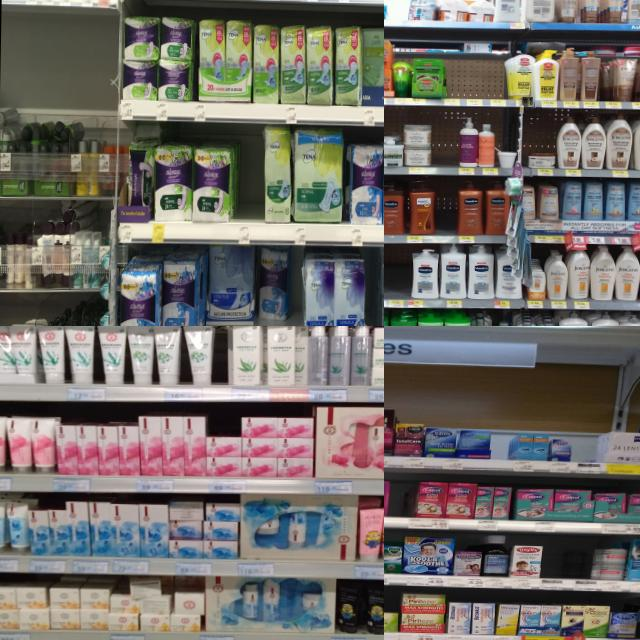100- O.O.S: (238, 135, 263, 242), (384, 243, 410, 306), (431, 115, 458, 173), (435, 181, 459, 242), (542, 538, 566, 590), (567, 540, 591, 590), (363, 251, 377, 326), (464, 58, 486, 105), (291, 248, 303, 326), (390, 480, 408, 526), (486, 61, 504, 106), (574, 437, 596, 472), (446, 61, 463, 105), (492, 431, 508, 468)
